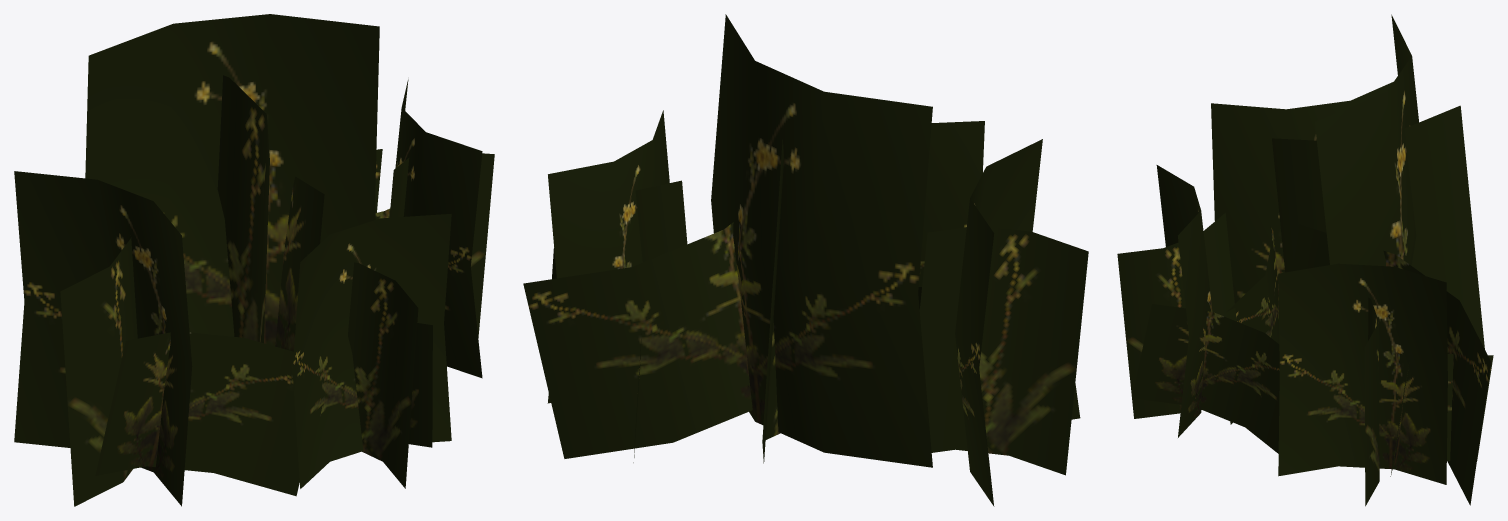
The model's file is caob11_ani.fbx.
3 renders of one model, left to right at view 1: azimuth 30°, elevation 25°; view 2: azimuth 150°, elevation 25°; view 3: azimuth 270°, elevation 25°, orthographic. The views are drawn at different scales.
Parts seen in each view (by area): view 1: caob11_ani; view 2: caob11_ani; view 3: caob11_ani.
Part boxes in pixels (x1,y1,x2,y2): caob11_ani: [14, 14, 494, 506]; caob11_ani: [523, 14, 1088, 506]; caob11_ani: [1117, 14, 1493, 506].
Size of the model in its own units: 1468 by 1173 by 1111.
1 material, 1 textured.
